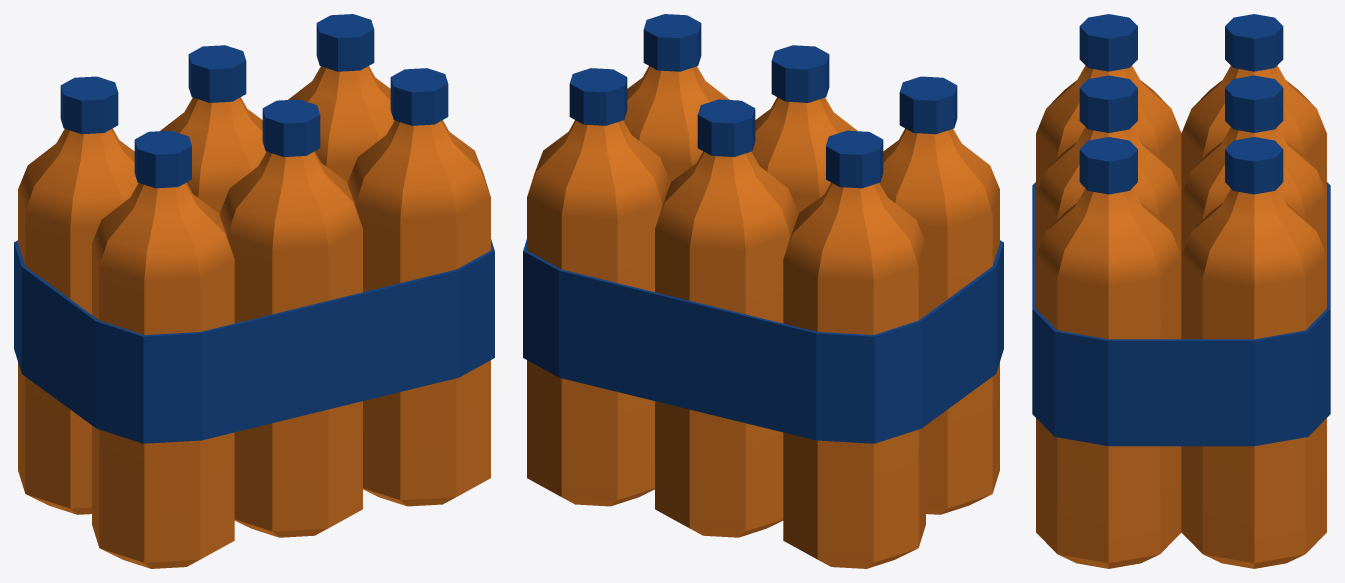
Rendered from Fanta.fbx.
The picture shows the model from 3 angles, left to right: view 1: azimuth 30°, elevation 25°; view 2: azimuth 150°, elevation 25°; view 3: azimuth 270°, elevation 25°; orthographic projection.
Parts seen in each view (by area): view 1: Fanta; view 2: Fanta; view 3: Fanta.
Boxes of the visible parts, bbox=[...] form: Fanta: bbox=[14, 14, 494, 568]; Fanta: bbox=[523, 14, 1003, 568]; Fanta: bbox=[1032, 14, 1330, 568].
Bounding box in the file's own units: 10.89 × 10.84 × 7.32.
